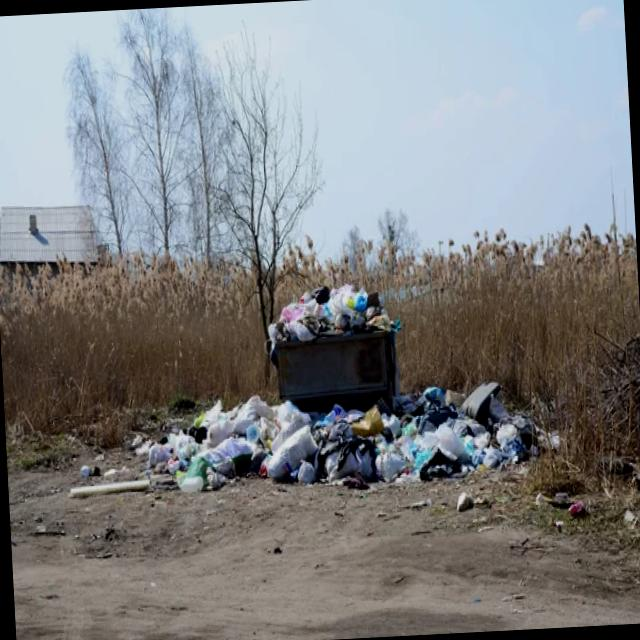garbage: (98, 362, 499, 536)
